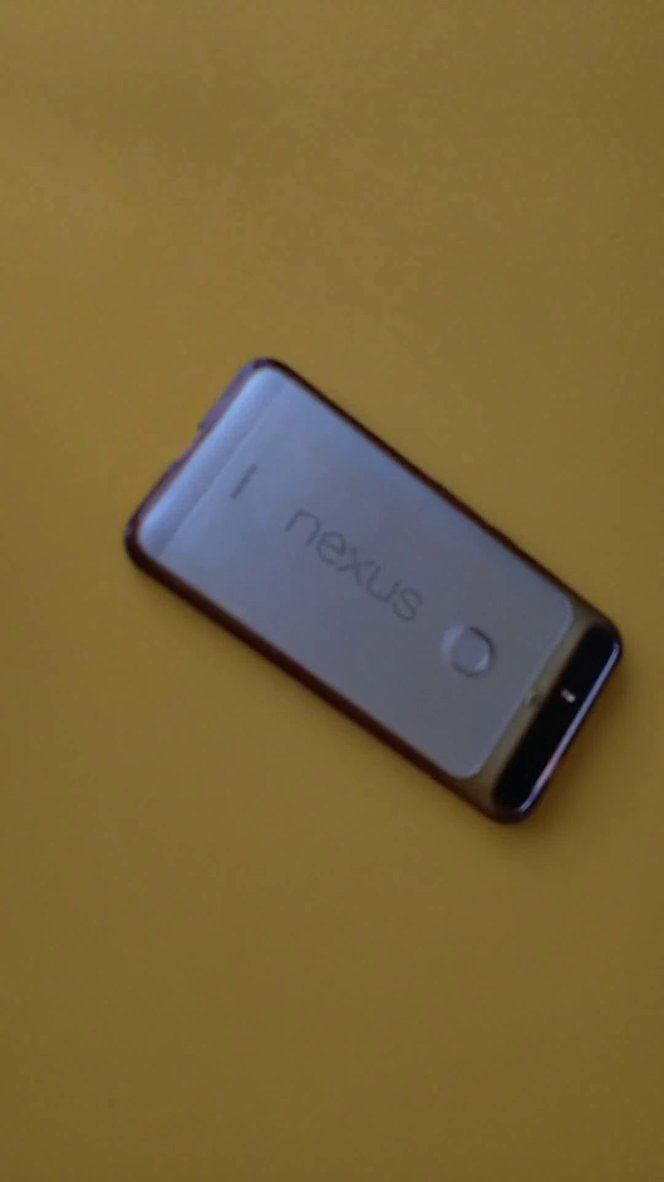phone: (108, 330, 635, 839)
